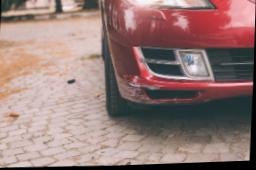Bumper: (104, 26, 255, 112)
